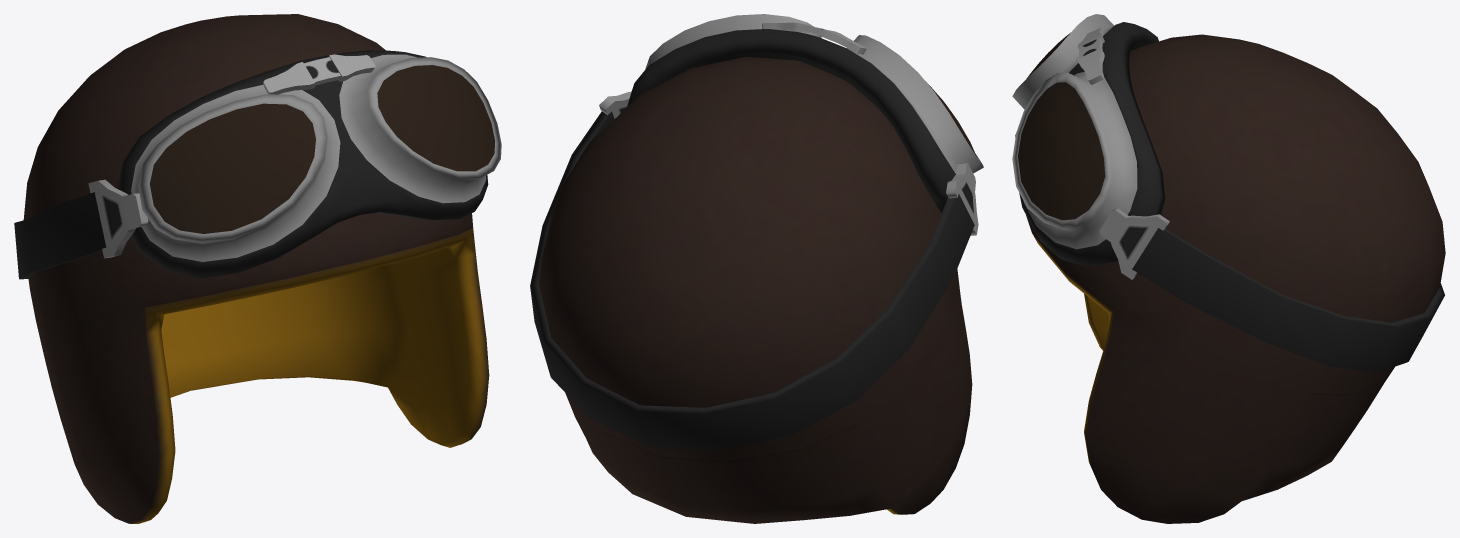
Rendered from CapHelmetPilot0.glb.
3 renders of one model, left to right at view 1: azimuth 30°, elevation 25°; view 2: azimuth 150°, elevation 25°; view 3: azimuth 270°, elevation 25°, orthographic. The views are drawn at different scales.
Visible parts, largest first — view 1: Body__mCap; view 2: Body__mCap; view 3: Body__mCap.
Boxes of the visible parts, x1,y1,x2,y2 form: Body__mCap: (14,14,501,523); Body__mCap: (530,14,983,523); Body__mCap: (1012,14,1445,523).
Size of the model in its own units: 7.73 by 8.28 by 7.93.
Materials: 1 (1 with a texture image).
